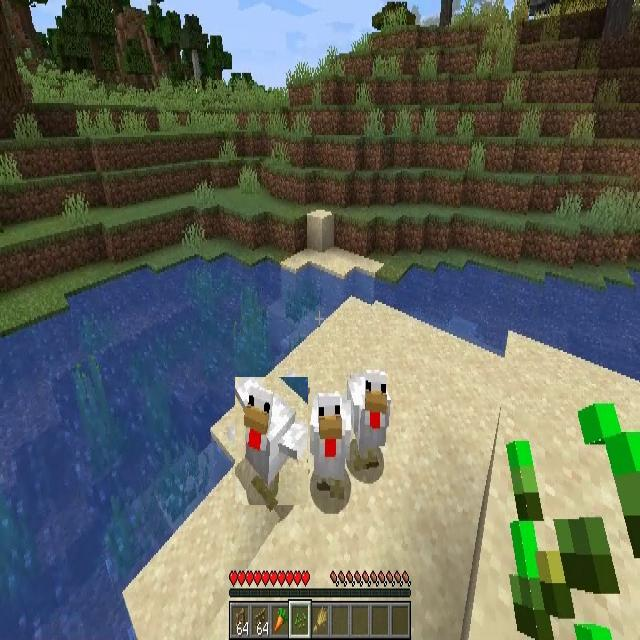duck: (235, 378, 308, 506), (309, 389, 349, 494), (350, 368, 392, 460)
